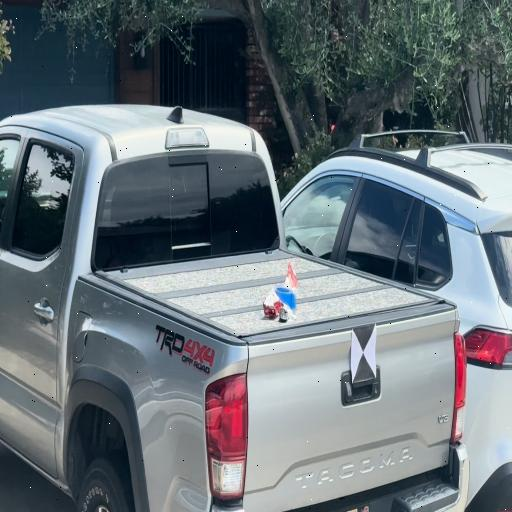target: (352, 324, 377, 383)
